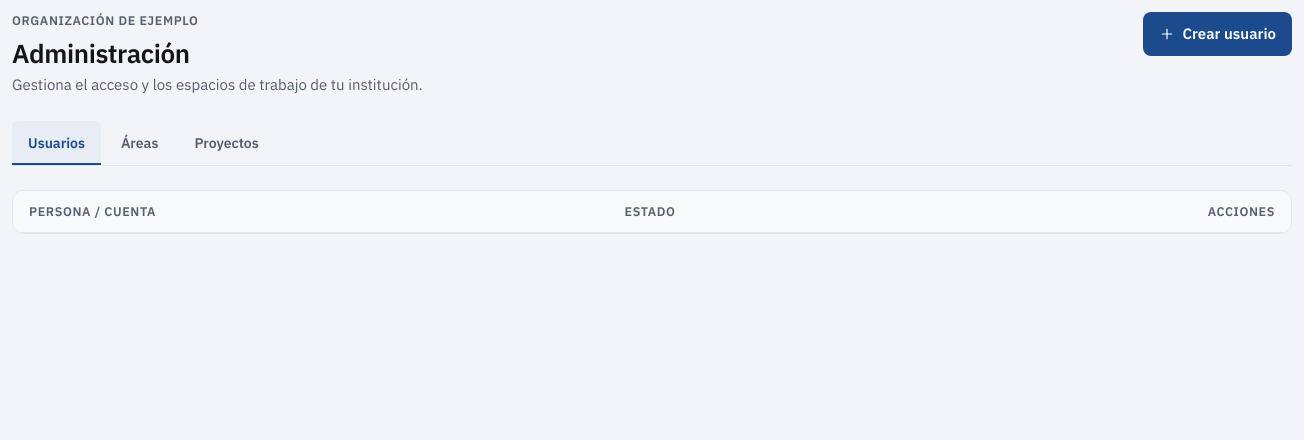
Test case: Áreas muestra las activas y deja consultar las desactivadas sin mezclarlas
The image size is (1304, 440).
Click the button "Áreas".
click(140, 143)  # box [105,121,174,165]
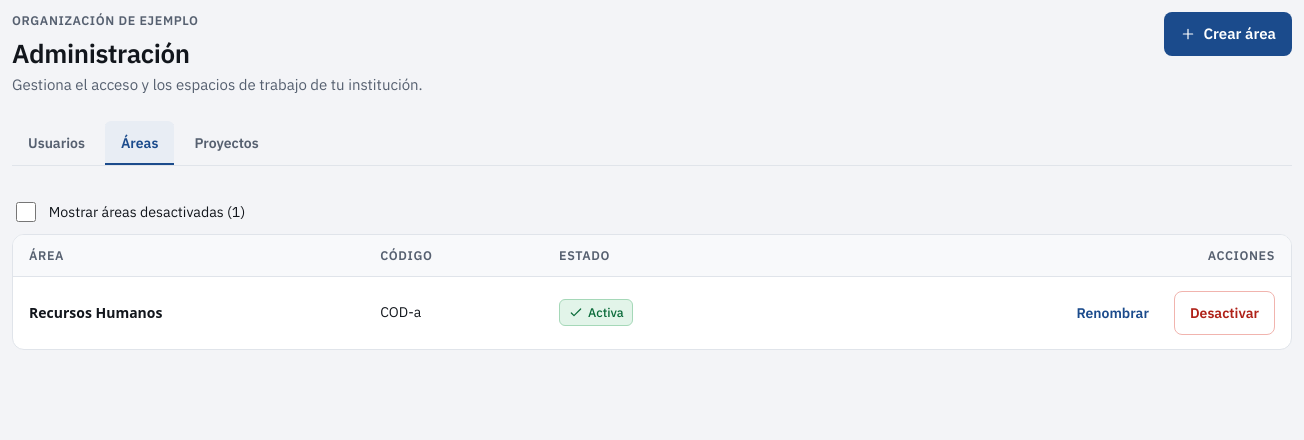
Expected: the text "Área anterior" is not shown
Now the text "Recursos Humanos" is shown, box [29,303,162,322]
Now the text "Activa" is shown, box [588,304,624,322]
Click the checkbox labelled "Mostrar áreas desactivadas (1)".
click(26, 212)  # box [16,202,36,222]
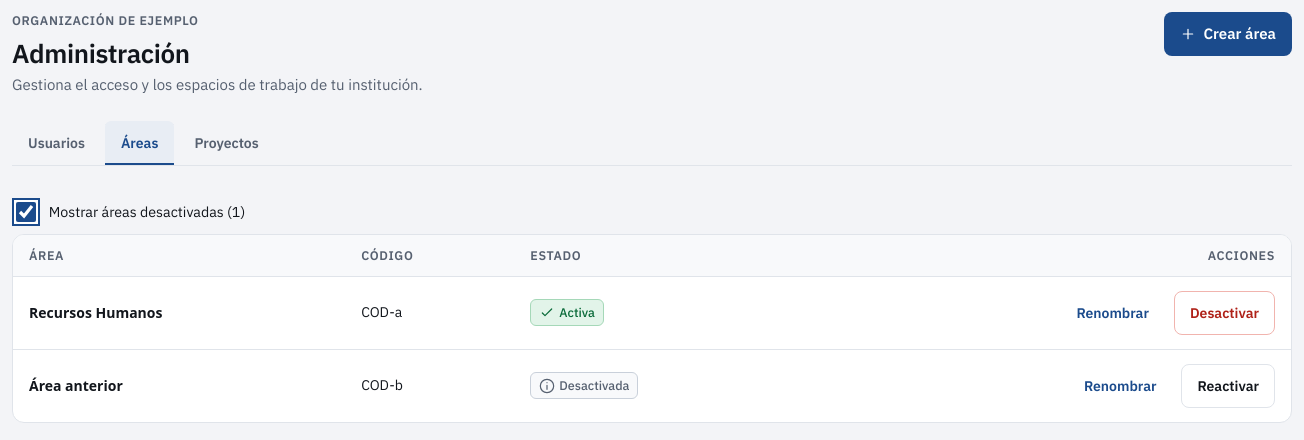
Now the text "Área anterior" is shown, box [29,376,123,395]
Now the text "Desactivada" is shown, box [559,377,630,394]
Now the button with aria-label "Reactivar Área anterior" is shown, box [1182,364,1275,408]
